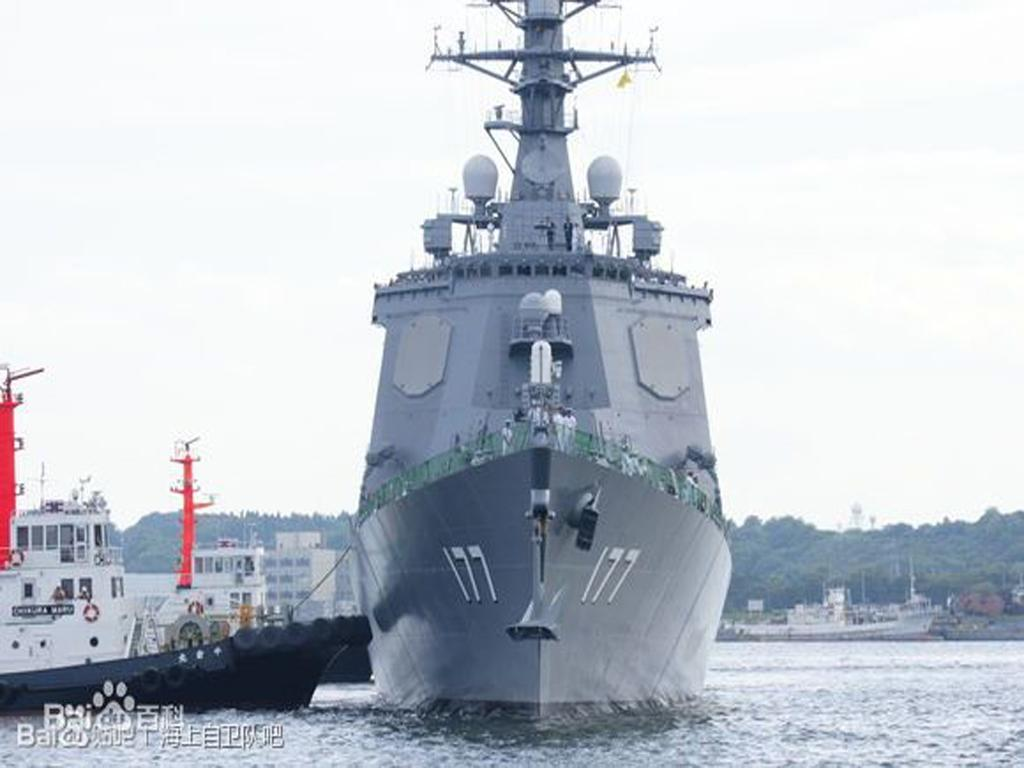Warship: (344, 9, 740, 728)
